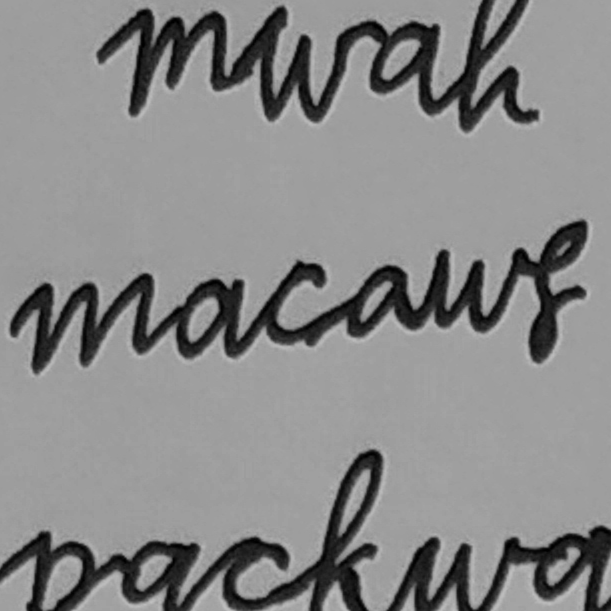a: (165, 265, 249, 375), (335, 256, 416, 344)
c: (256, 258, 334, 353)
m: (12, 265, 162, 380)
s: (520, 214, 592, 372)
w: (420, 236, 531, 341)
